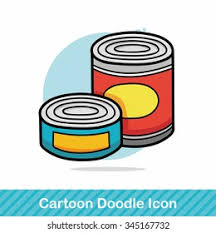can: (35, 28, 175, 162)
